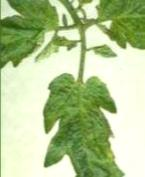Tomato leaf mosaic virus: (39, 72, 129, 177), (3, 0, 61, 77), (98, 0, 145, 53)
